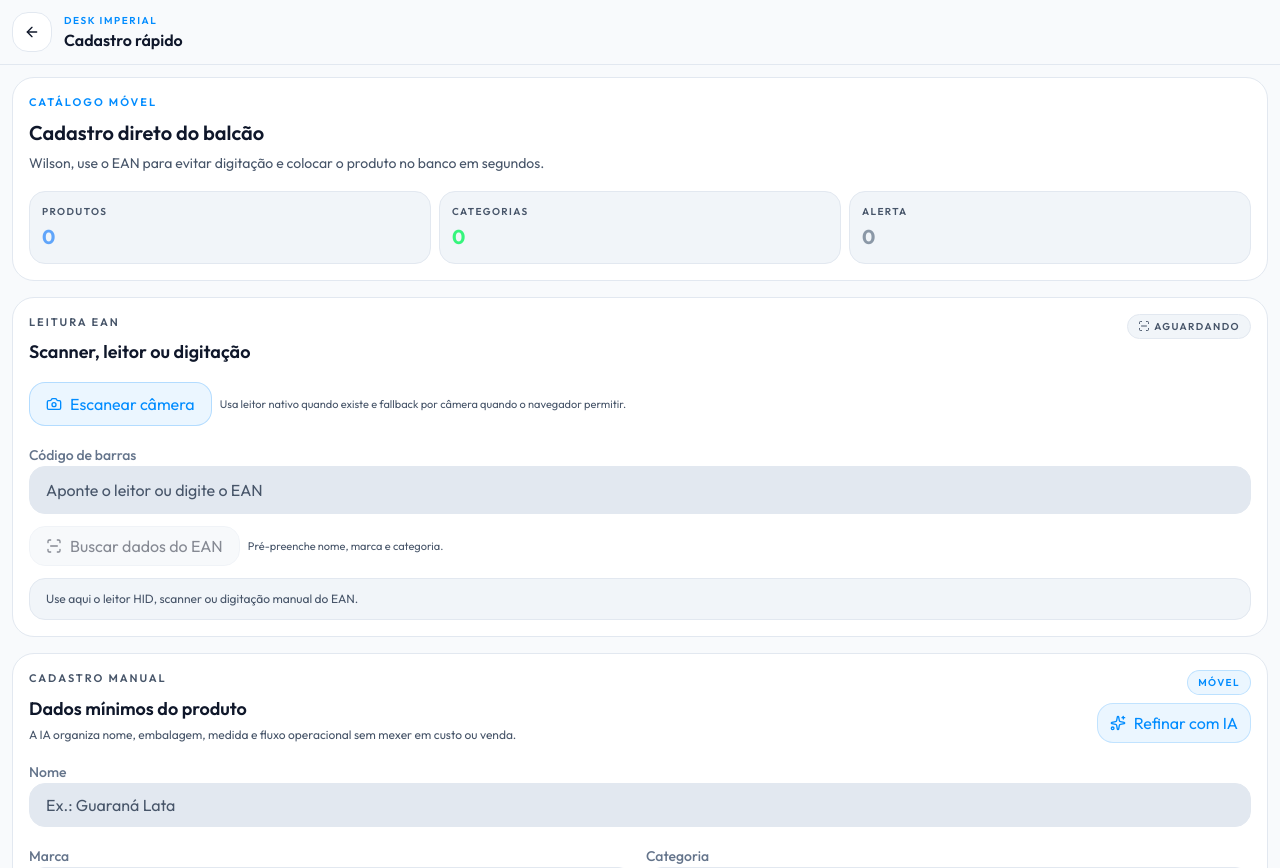
OwnerQuickRegisterView › preenche nome, marca e categoria ao consultar o EAN
In the field with placeholder "Aponte o leitor ou digite o EAN": (640, 490) left=29, top=466, right=1251, bottom=514, type "7891234567890"
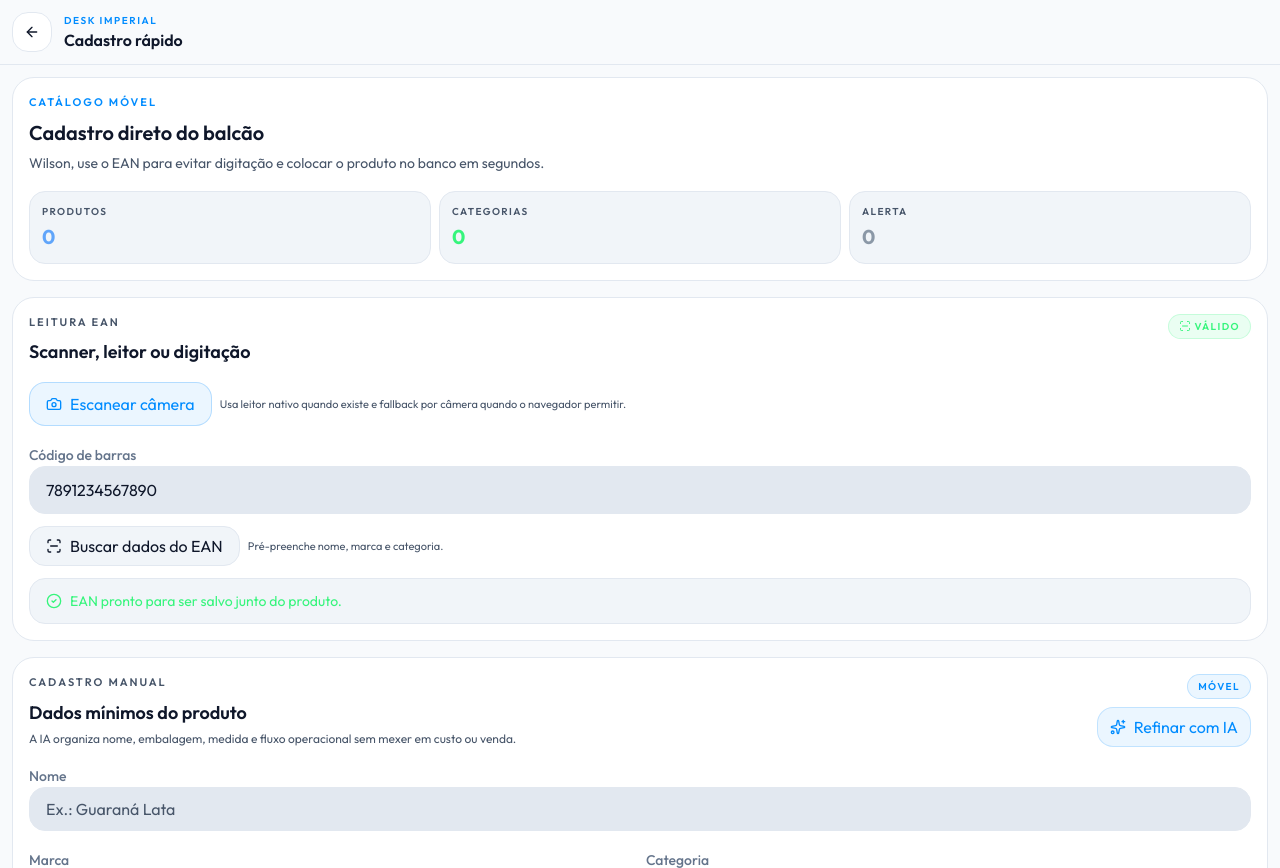
Click the button "Buscar dados do EAN": (134, 546) left=29, top=526, right=240, bottom=566
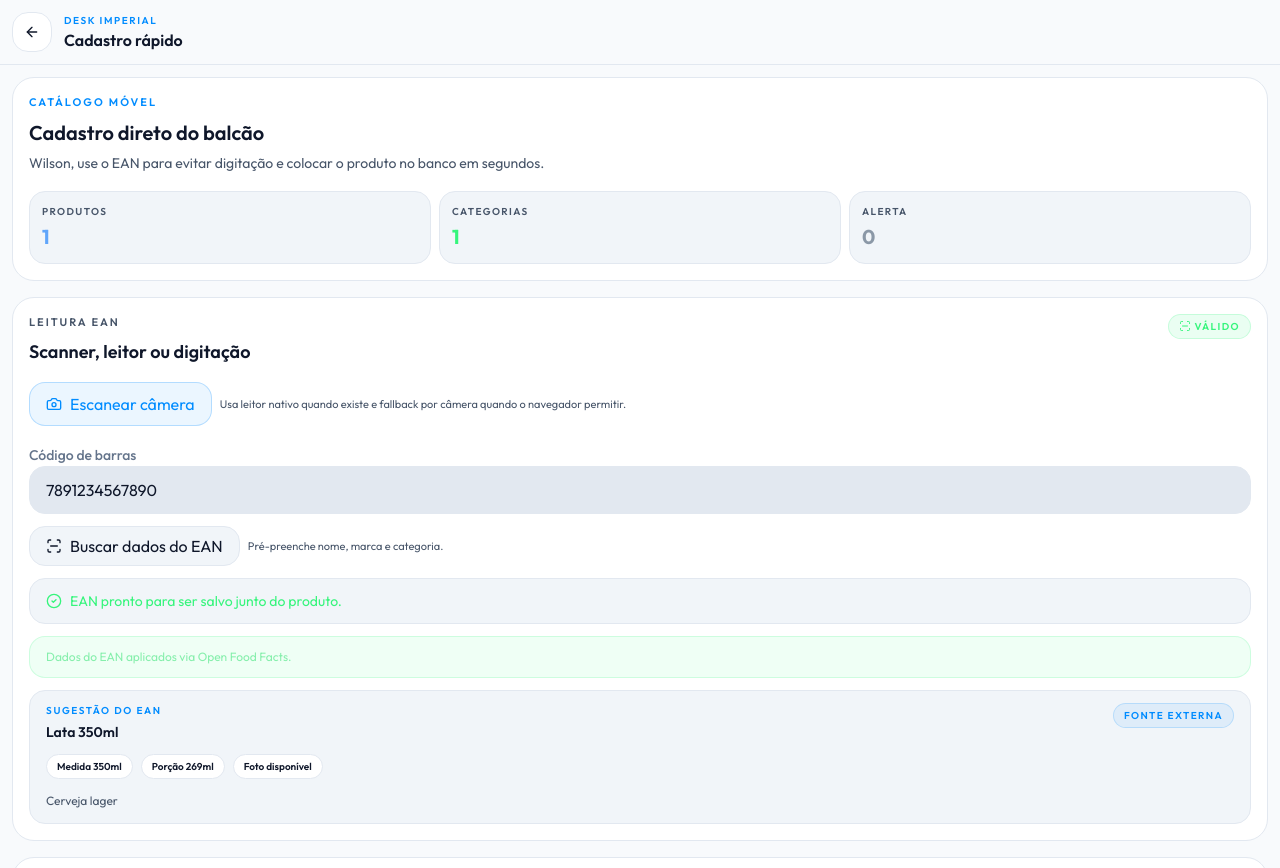
Result: the text "Lata 350ml" is shown at left=46, top=723, right=118, bottom=741
Result: the text "Medida 350ml" is shown at left=46, top=754, right=133, bottom=779
